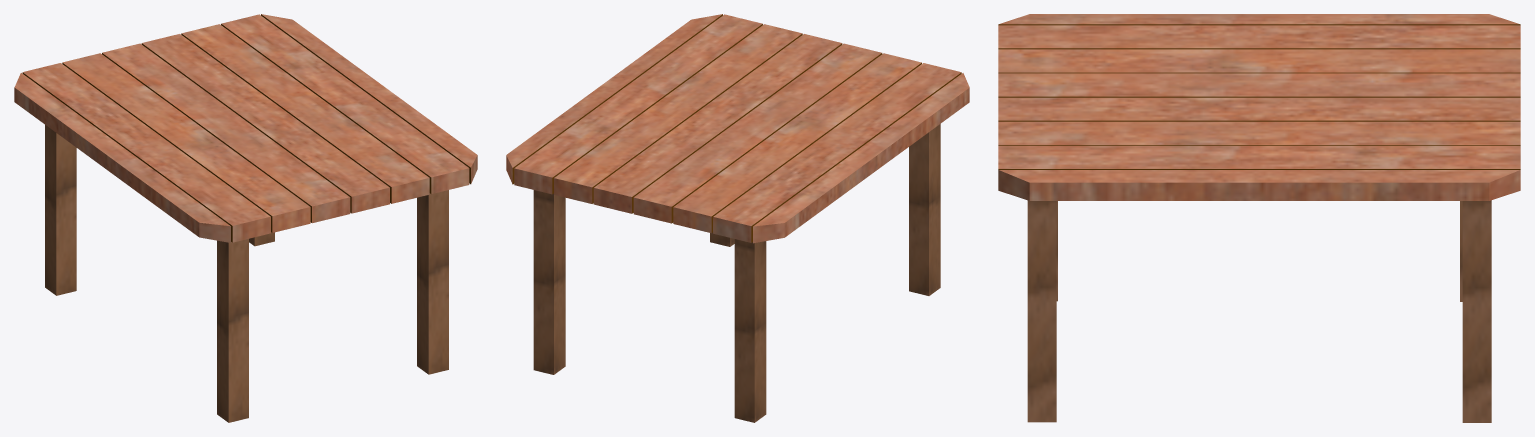
The model's file is TABLE4.fbx.
3 views of the same model, side by side, from view 1: azimuth 30°, elevation 25°; view 2: azimuth 150°, elevation 25°; view 3: azimuth 270°, elevation 25° (orthographic). The views are drawn at different scales.
Visible parts, largest first — view 1: TABLE4; view 2: TABLE4; view 3: TABLE4.
Boxes of the visible parts, <box> form: TABLE4: <box>14,14,477,422</box>; TABLE4: <box>506,14,969,422</box>; TABLE4: <box>998,14,1520,422</box>.
Size of the model in its own units: 81.13 by 58.02 by 106.
